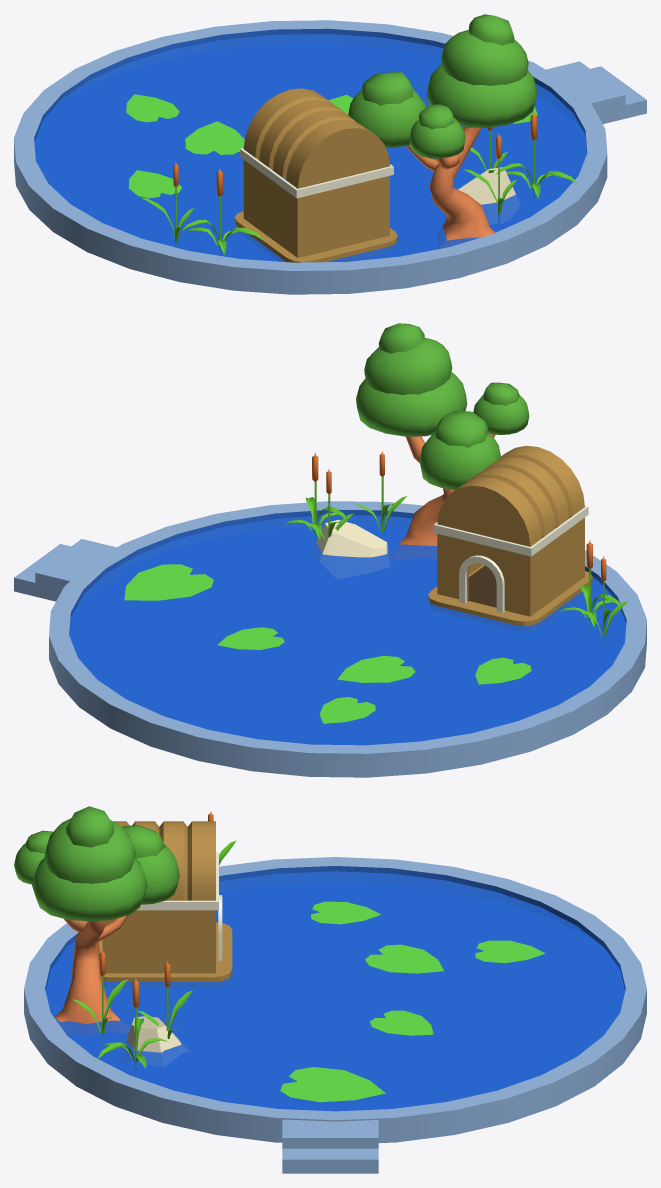
The model's file is paddock_flamingo.fbx.
3 views of the same model, one above another, from view 1: azimuth 30°, elevation 25°; view 2: azimuth 150°, elevation 25°; view 3: azimuth 270°, elevation 25° (orthographic). The views are drawn at different scales.
Visible parts, largest first — view 1: paddock_flamingo, house_flamingo, Tree.015, paddock_penguins.002, Flowers.041, rock.008, Flowers.040, Flowers.038, Grass.014, Grass.009, Grass.013, Grass.015; view 2: paddock_flamingo, house_flamingo, Tree.015, paddock_penguins.002, Flowers.002, rock.008, Flowers.041, Flowers.039, Flowers.040, Flowers.038, Grass.014, Grass.009; view 3: paddock_flamingo, Tree.015, house_flamingo, paddock_penguins.002, Flowers.002, Flowers.041, rock.008, Flowers.040, Flowers.038, Flowers.039, Grass.009, Grass.013 (+1 smaller).
Boxes of the visible parts, x1,y1,x2,y2 form: paddock_flamingo: [14, 20, 607, 294]; house_flamingo: [234, 88, 397, 262]; Tree.015: [348, 14, 537, 246]; paddock_penguins.002: [538, 61, 646, 124]; Flowers.041: [185, 121, 244, 154]; rock.008: [458, 167, 515, 212]; Flowers.040: [126, 94, 179, 122]; Flowers.038: [128, 170, 181, 198]; Grass.014: [182, 168, 263, 254]; Grass.009: [496, 111, 577, 198]; Grass.013: [464, 133, 516, 214]; Grass.015: [141, 162, 193, 242]; paddock_flamingo: [49, 501, 646, 777]; house_flamingo: [428, 445, 592, 629]; Tree.015: [356, 323, 529, 559]; paddock_penguins.002: [14, 539, 122, 602]; Flowers.002: [124, 564, 213, 600]; rock.008: [312, 519, 389, 578]; Flowers.041: [337, 655, 415, 682]; Flowers.039: [217, 627, 284, 649]; Flowers.040: [319, 697, 375, 723]; Flowers.038: [475, 657, 531, 684]; Grass.014: [560, 540, 620, 626]; Grass.009: [285, 452, 347, 539]; paddock_flamingo: [24, 857, 646, 1143]; Tree.015: [14, 806, 179, 1027]; house_flamingo: [98, 821, 232, 986]; paddock_penguins.002: [282, 1119, 378, 1173]; Flowers.002: [280, 1067, 385, 1102]; Flowers.041: [365, 944, 443, 973]; rock.008: [120, 1016, 189, 1062]; Flowers.040: [475, 940, 545, 963]; Flowers.038: [311, 901, 380, 924]; Flowers.039: [370, 1010, 433, 1035]; Grass.009: [97, 977, 167, 1068]; Grass.013: [72, 949, 127, 1038].
Size of the model in its own units: 3695 by 1420 by 3401.
